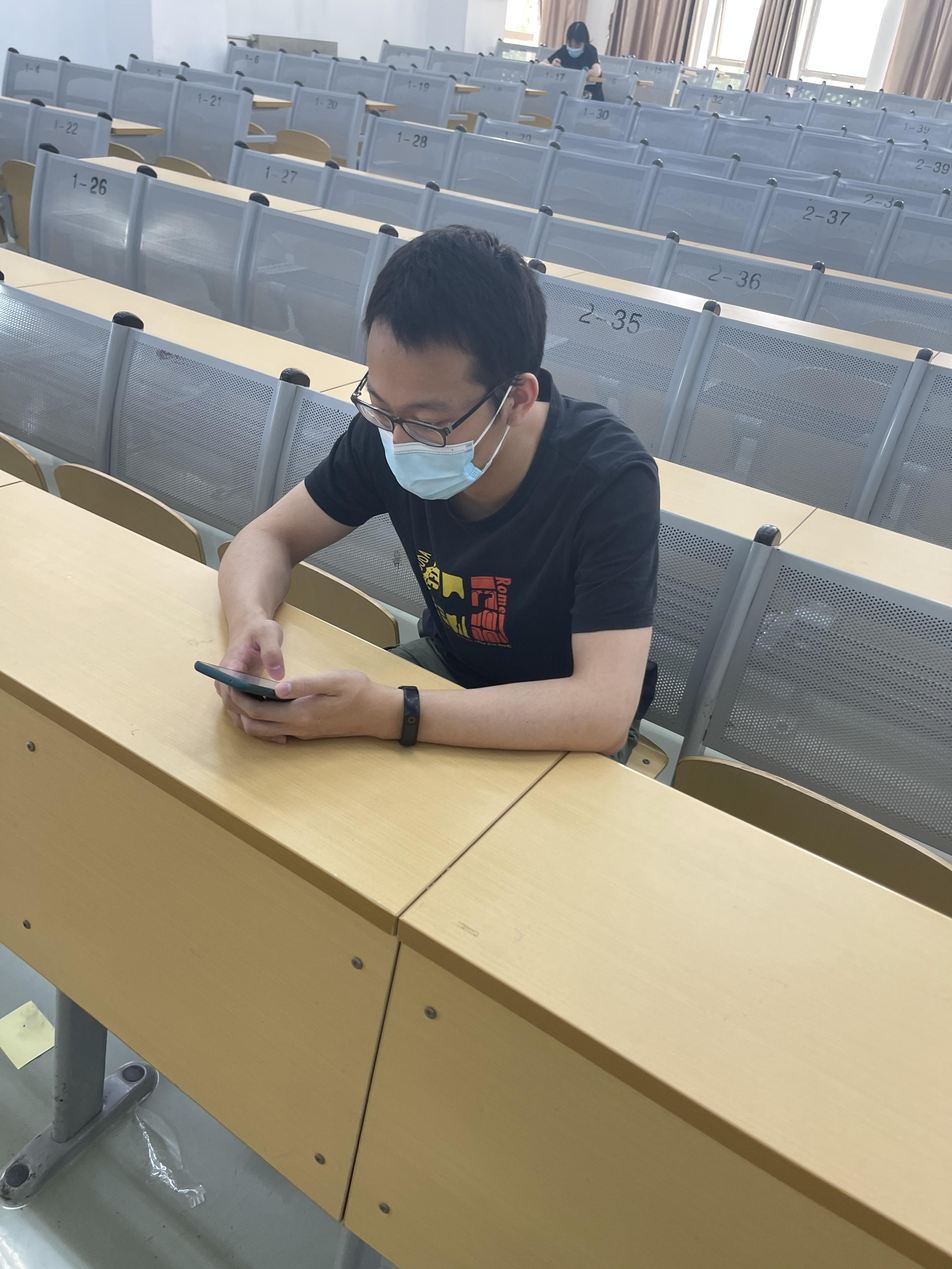phone: (201, 224, 658, 752)
